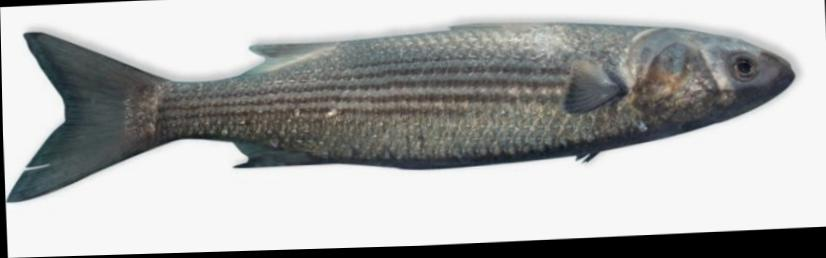fish: (6, 25, 799, 202)
